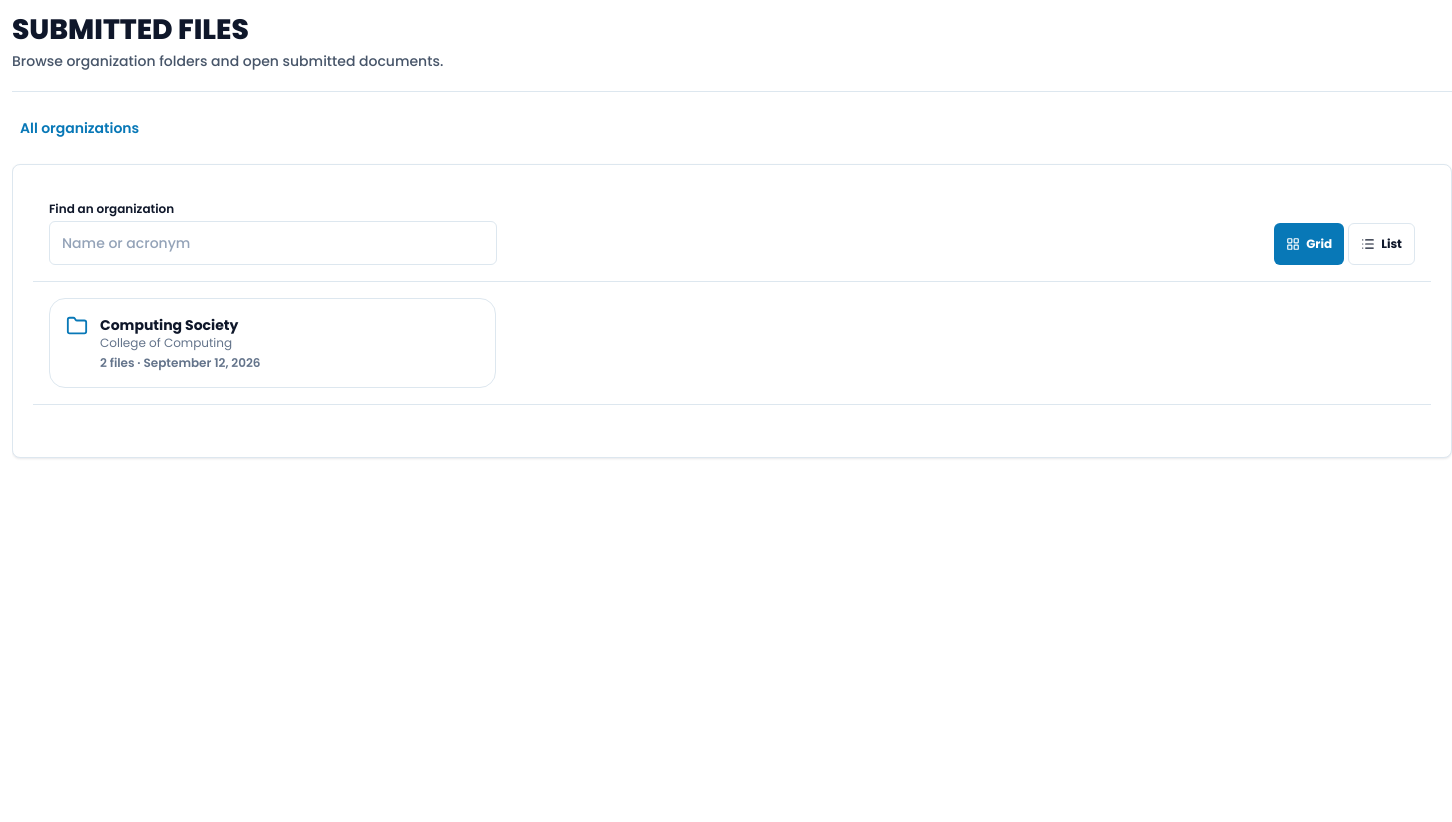
Test: SAO submitted files › opens organization folders, switches views, and returns with the breadcrumb
Expected: the button "Computing Society" shows "College of Computing", [49, 298, 496, 388]
Expected: the button "Computing Society" shows "2 files", [49, 298, 496, 388]
Click the button with aria-label "List view": (1382, 244) [1348, 223, 1415, 265]
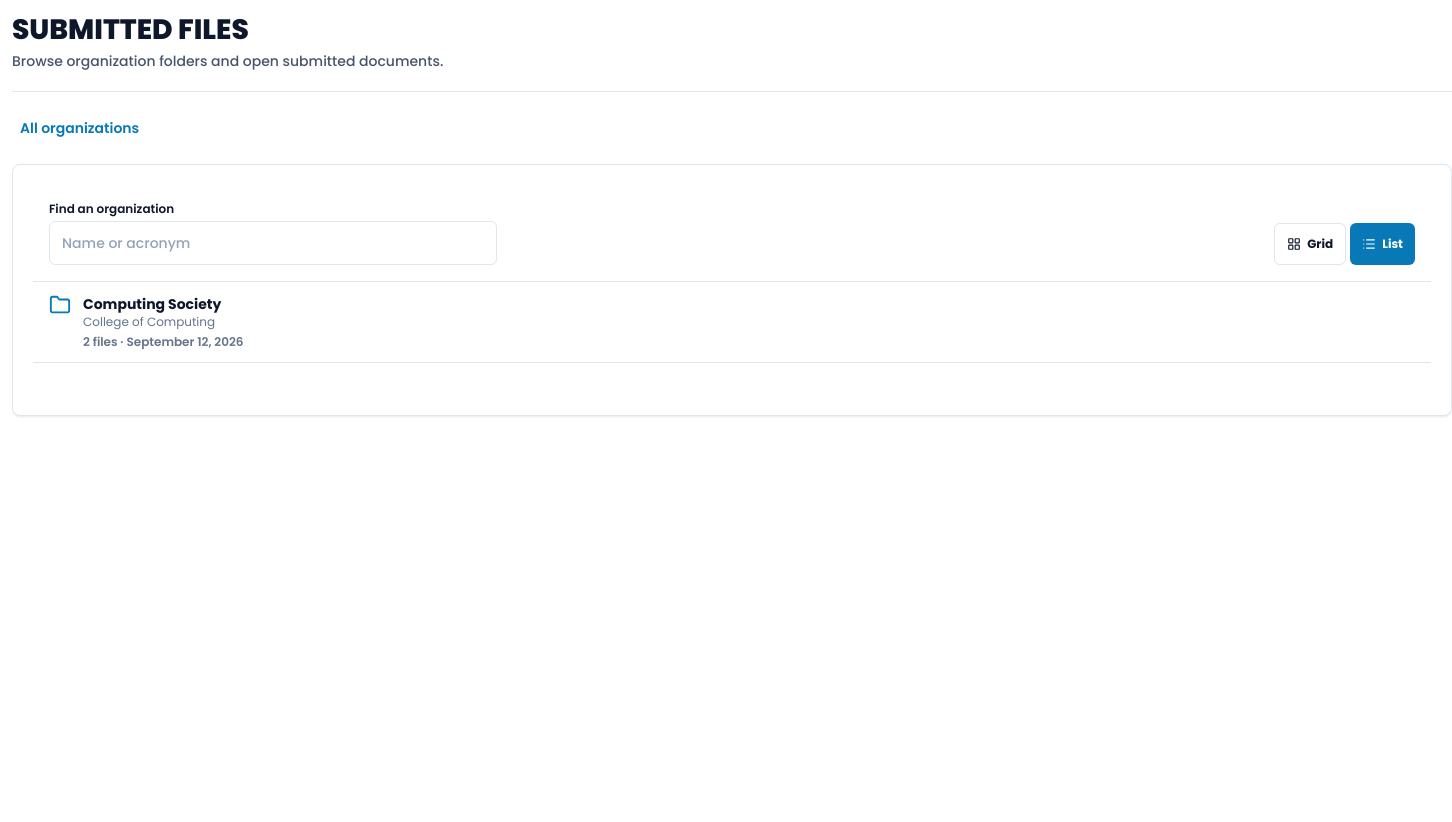
Expected: the button "Computing Society" has class "px-4"
Click the button "Computing Society": (146, 322) [33, 282, 260, 362]
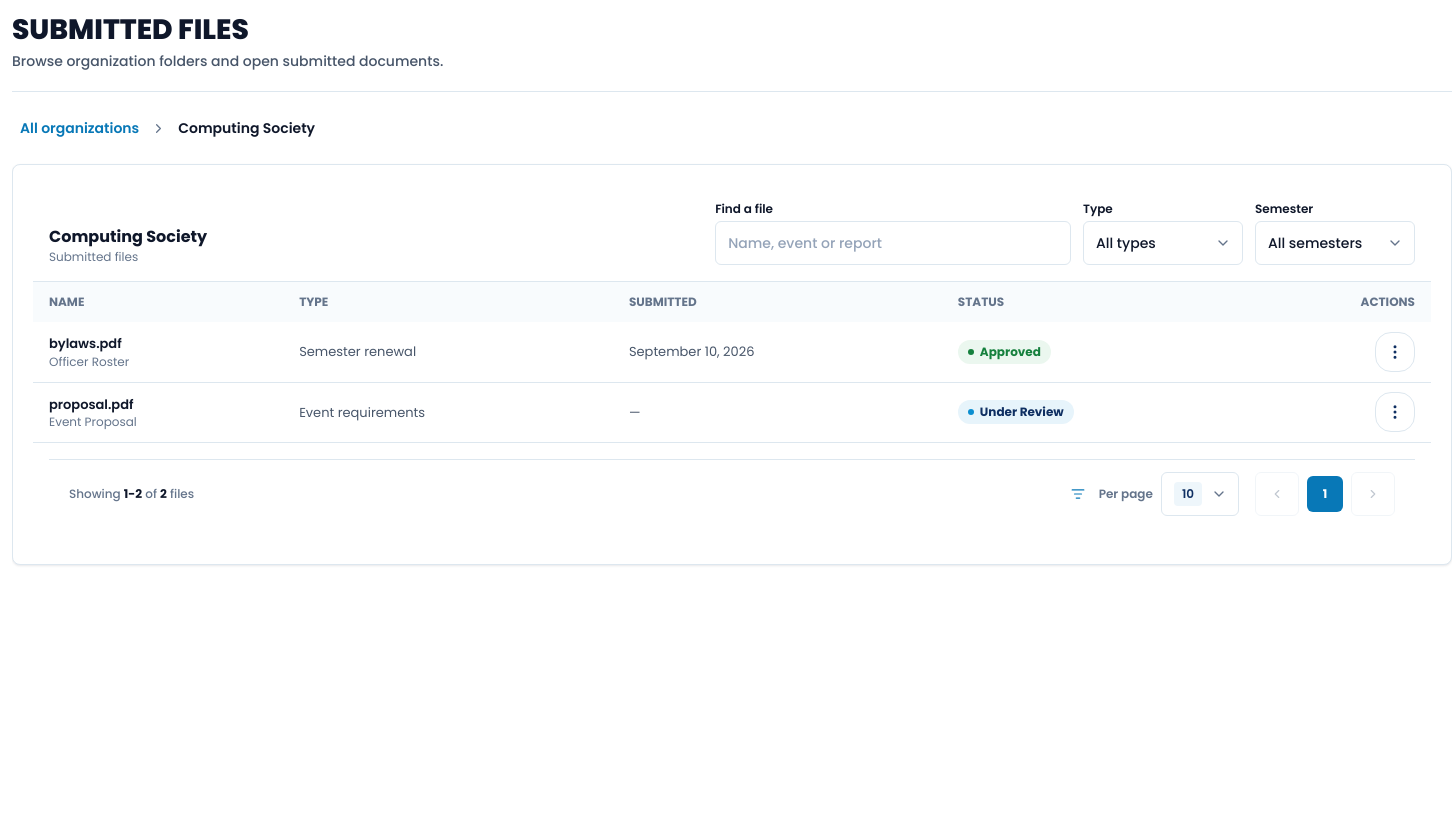
Expected: the table named "Files submitted by Computing Society" is shown, [33, 282, 1431, 442]
Expected: the row "bylaws.pdf" is shown, [33, 322, 1431, 382]
Click the button "All organizations": (80, 128) [12, 108, 147, 148]
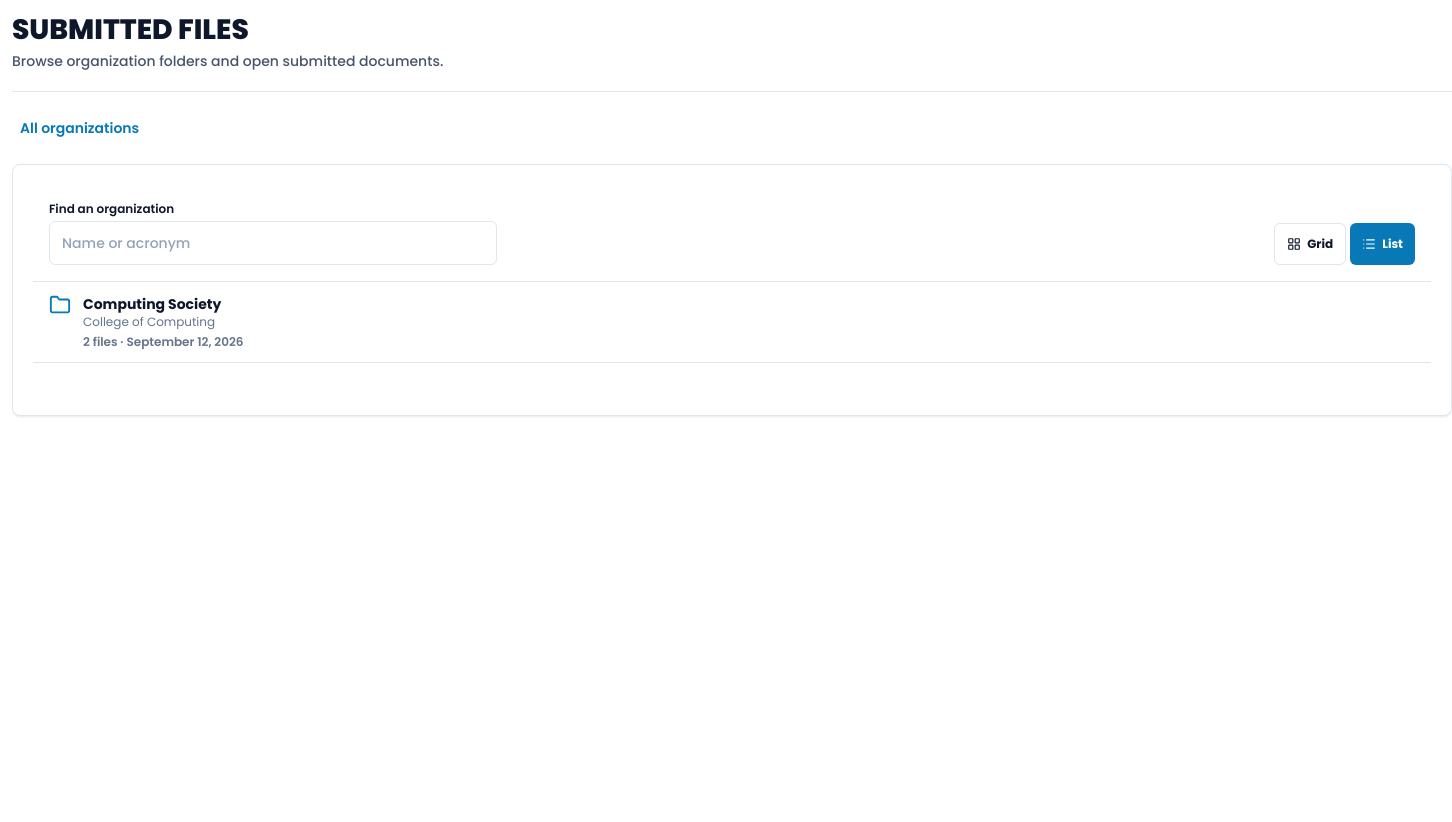
Expected: the table is gone
